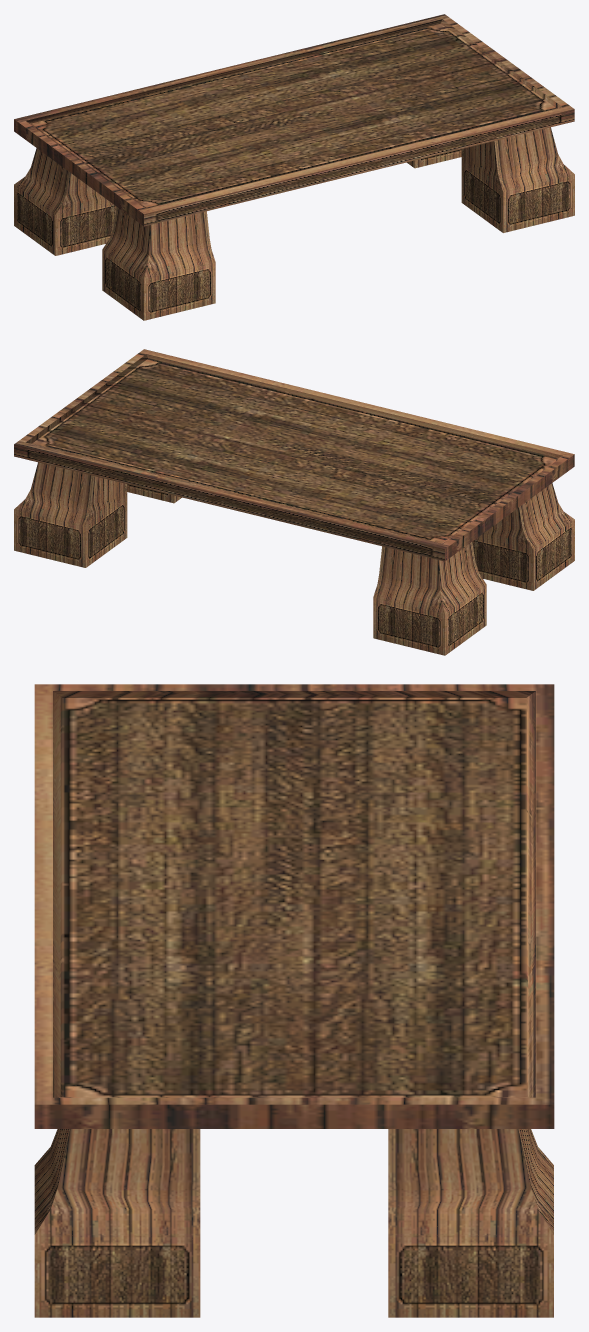
Rendered from frn_all_eleg_coffee_table_s02_l0.fbx.
The picture shows the model from 3 angles, top to bottom: view 1: azimuth 30°, elevation 25°; view 2: azimuth 150°, elevation 25°; view 3: azimuth 270°, elevation 25°; orthographic projection. The views are drawn at different scales.
Parts seen in each view (by area): view 1: mesh_node; view 2: mesh_node; view 3: mesh_node.
Part boxes in pixels (<box>): mesh_node: <box>14,14,574,320</box>; mesh_node: <box>14,349,574,655</box>; mesh_node: <box>34,684,554,1317</box>.
Bounding box in the file's own units: 1.69 × 0.3985 × 0.8813.
1 material, 1 textured.
